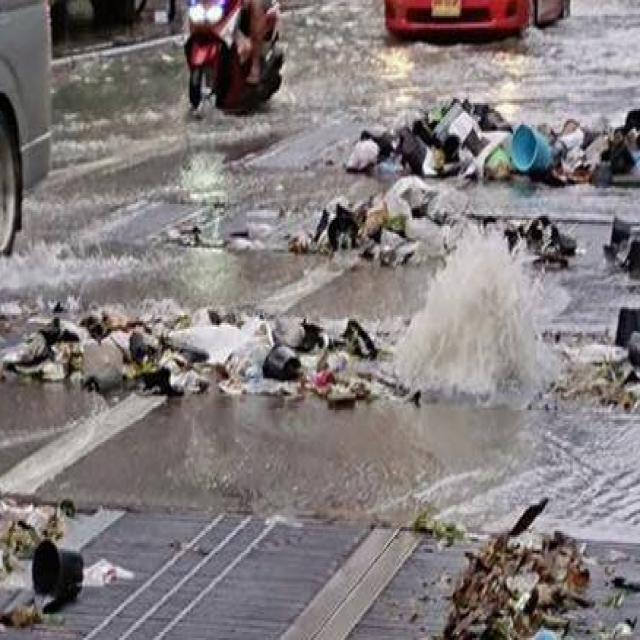-: (0, 267, 640, 434), (329, 89, 640, 196), (478, 501, 640, 640)
